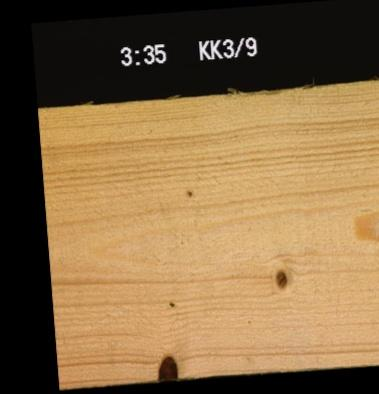small_knot: (183, 187, 194, 197)
sound_knot: (271, 267, 288, 289)
